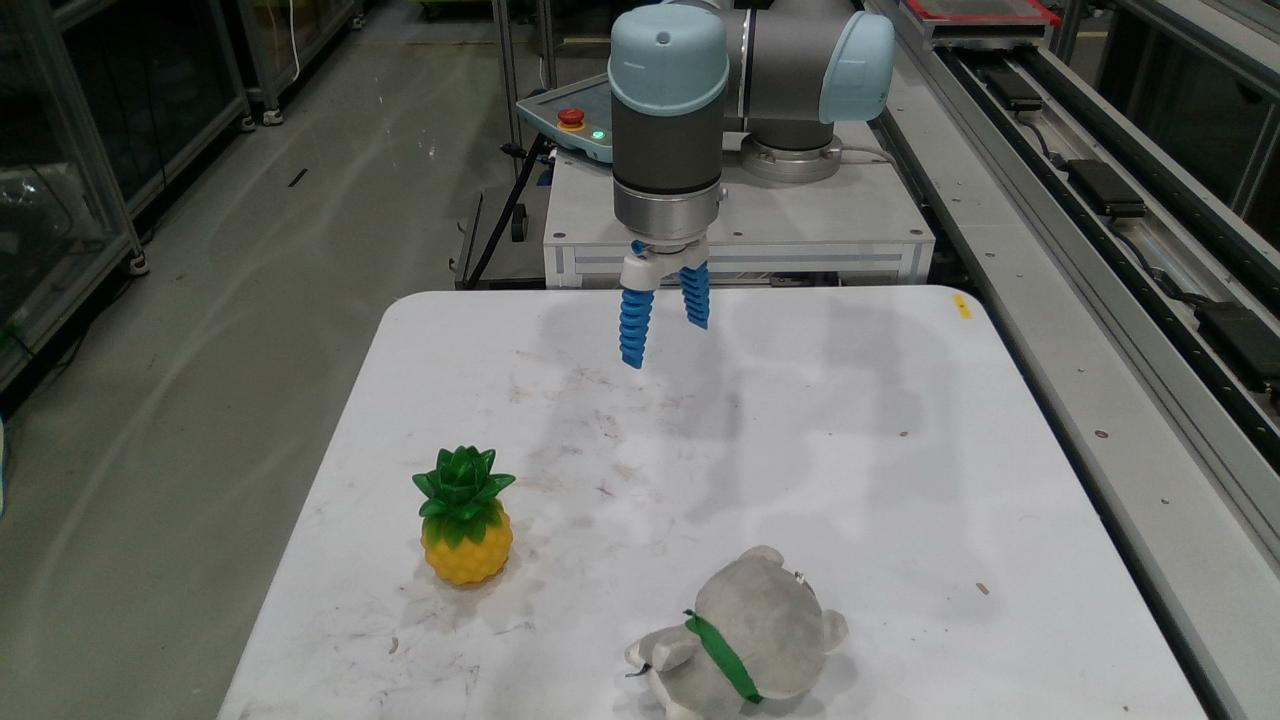UR5: (610, 2, 888, 290)
gripper_left: (620, 288, 652, 366)
gripper_right: (680, 267, 708, 326)
target: (628, 547, 846, 719), (414, 447, 510, 584)
